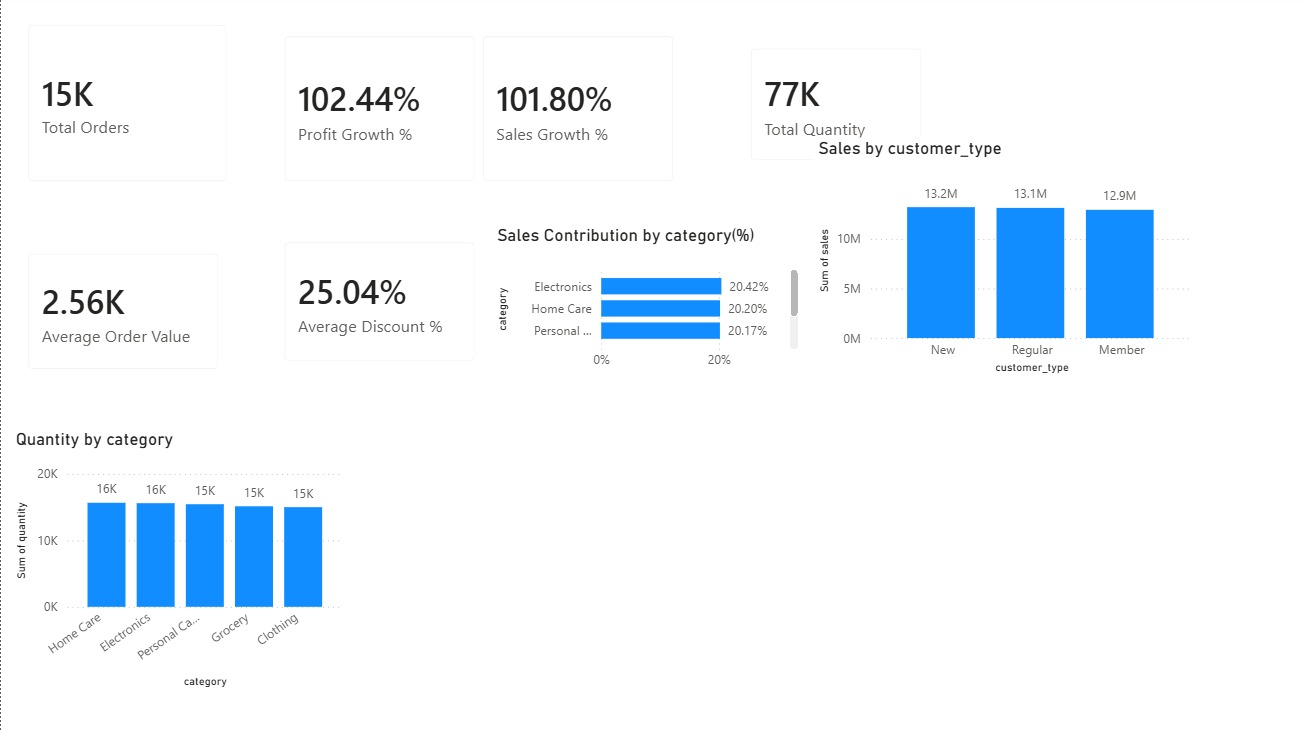

What the dashboard file says about the page in this screenshot:
{"tool":"powerbi","page":{"name":"DAX Analysis","canvas":[1280,720],"ordinal":1},"visuals":[{"type":"cardVisual","fields":{"Data":["Main.Total Orders"]},"box":[9.8,12.2,228.7,187.1],"z":0},{"type":"cardVisual","fields":{"Data":["Main.Total Quantity"]},"box":[716.6,35.5,201.8,143.1],"z":1000},{"type":"cardVisual","fields":{"Data":["Main.Profit Growth %","Main.Sales Growth %"]},"box":[260.5,23.2,415.8,176.1],"z":2000},{"type":"cardVisual","fields":{"Data":["Main.Average Order Value"]},"box":[9.8,236,220.1,148],"z":3000},{"type":"cardVisual","fields":{"Data":["Main.Average Discount %"]},"box":[260.5,225,220,150],"z":4000},{"type":"clusteredBarChart","title":"Sales Contribution by category(%)","fields":{"Category":["Main.category"],"Y":["Main.Sales Contribution %"]},"box":[480.6,225,304.5,150.4],"z":4001},{"type":"clusteredColumnChart","title":"Sales by customer_type","fields":{"Category":["Main.customer_type"],"Y":["Sum(Main.sales)"]},"box":[794.8,139.4,376.6,236],"z":4002},{"type":"clusteredColumnChart","title":"Quantity by category","fields":{"Category":["Main.category"],"Y":["Sum(Main.quantity)"]},"box":[9.8,424.3,330.2,258],"z":4003}]}

Visuals, with their boxes in screenshot pixels (x1, y1, x2, y2), scaled from the page's 1280x720 canvas onto the 1307x730 screenshot:
cardVisual - Main.Total Orders: pyautogui.locateOnScreen(10, 12, 244, 202)
cardVisual - Main.Total Quantity: pyautogui.locateOnScreen(732, 36, 938, 181)
cardVisual - Main.Profit Growth % x Main.Sales Growth %: pyautogui.locateOnScreen(266, 24, 691, 202)
cardVisual - Main.Average Order Value: pyautogui.locateOnScreen(10, 239, 235, 389)
cardVisual - Main.Average Discount %: pyautogui.locateOnScreen(266, 228, 491, 380)
"Sales Contribution by category(%)" clusteredBarChart: pyautogui.locateOnScreen(491, 228, 802, 381)
"Sales by customer_type" clusteredColumnChart: pyautogui.locateOnScreen(812, 141, 1196, 381)
"Quantity by category" clusteredColumnChart: pyautogui.locateOnScreen(10, 430, 347, 692)
